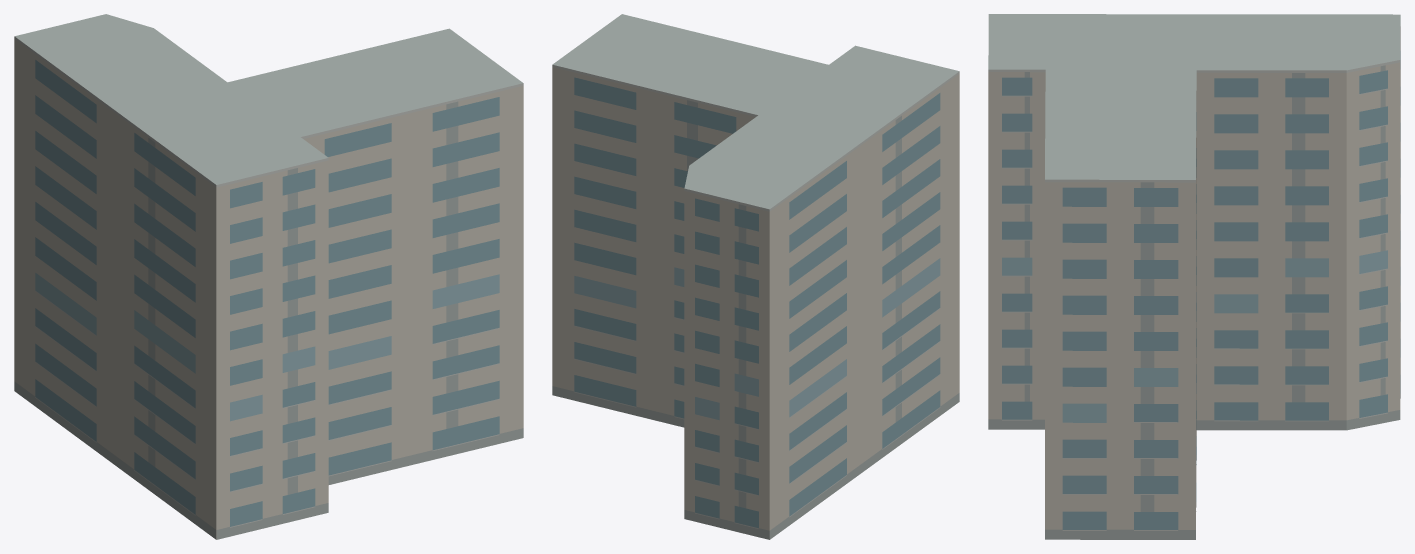
Rendered from residential-f4a3775d-dca7-4e31-98bb-a28333110223.glb.
3 renders of one model, left to right at view 1: azimuth 30°, elevation 25°; view 2: azimuth 150°, elevation 25°; view 3: azimuth 270°, elevation 25°, orthographic. The views are drawn at different scales.
Parts seen in each view (by area): view 1: residential-f4a3775d-dca7-4e31-98bb-a28333110223.tmp; view 2: residential-f4a3775d-dca7-4e31-98bb-a28333110223.tmp; view 3: residential-f4a3775d-dca7-4e31-98bb-a28333110223.tmp.
Boxes of the visible parts, x1,y1,x2,y2 form: residential-f4a3775d-dca7-4e31-98bb-a28333110223.tmp: (14, 14, 523, 539); residential-f4a3775d-dca7-4e31-98bb-a28333110223.tmp: (552, 14, 959, 539); residential-f4a3775d-dca7-4e31-98bb-a28333110223.tmp: (988, 14, 1400, 539).
Bounding box in the file's own units: 33.62 × 34 × 35.3.
